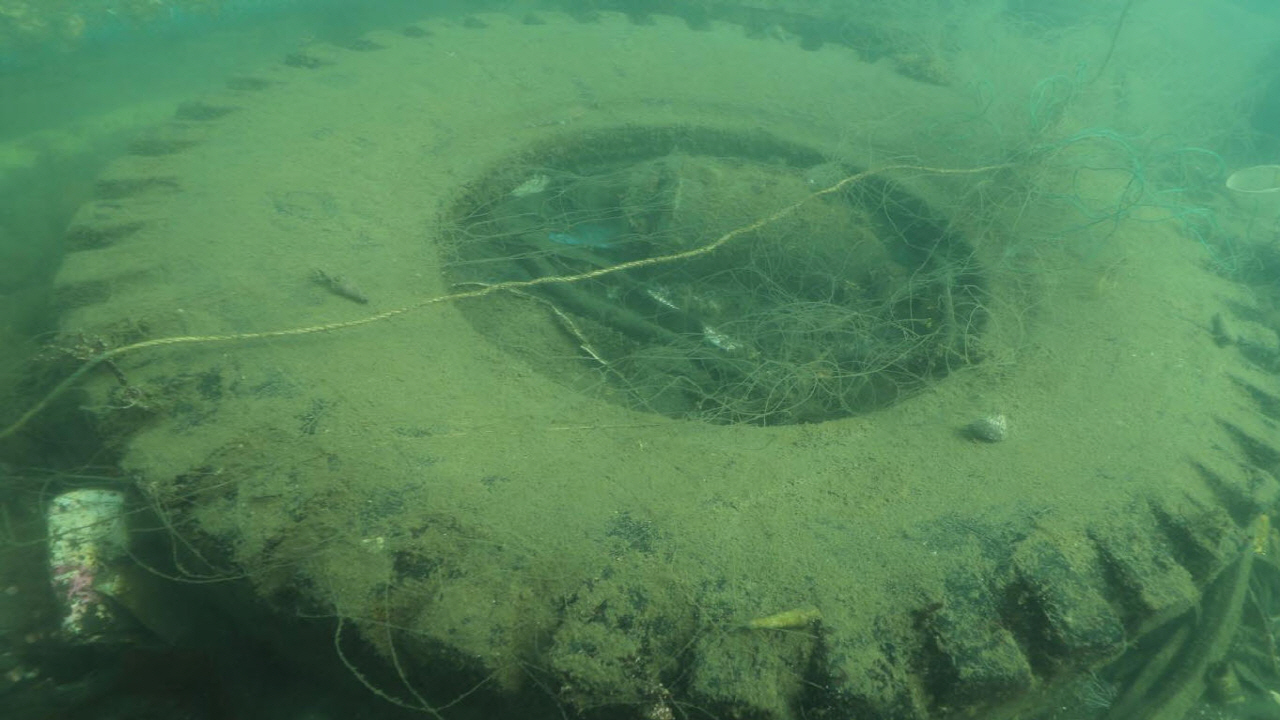tire: (50, 6, 1271, 720)
